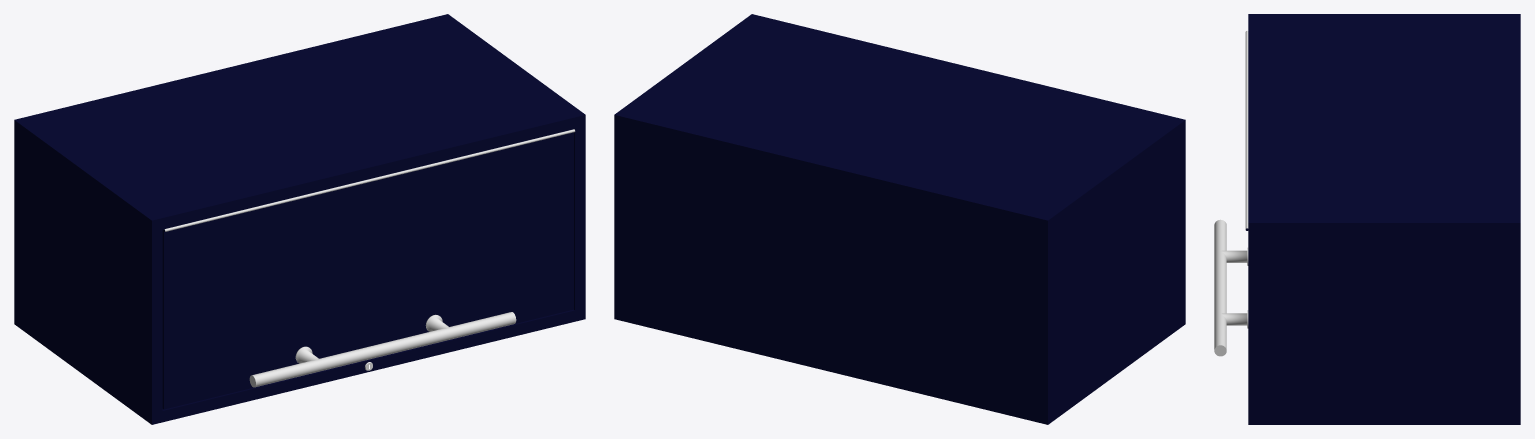
File: overHeads40Lux.glb
3 renders of one model, left to right at view 1: azimuth 30°, elevation 25°; view 2: azimuth 150°, elevation 25°; view 3: azimuth 270°, elevation 25°, orthographic.
Visible parts, largest first — view 1: upperShell, doors, handles, hinge; view 2: upperShell; view 3: upperShell, handles, hinge.
Boxes of the visible parts, x1,y1,x2,y2 form: upperShell: (14,14,585,424); doors: (162,129,573,409); handles: (249,312,516,387); hinge: (164,129,575,231); upperShell: (614,14,1185,424); upperShell: (1248,14,1520,424); handles: (1214,219,1248,356); hinge: (1245,30,1248,228).
Size of the model in its own units: 1.02 by 0.4572 by 0.6287.
